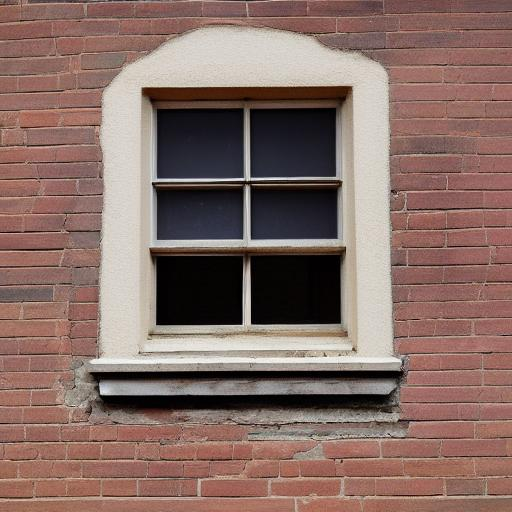Window: (68, 25, 424, 402)
